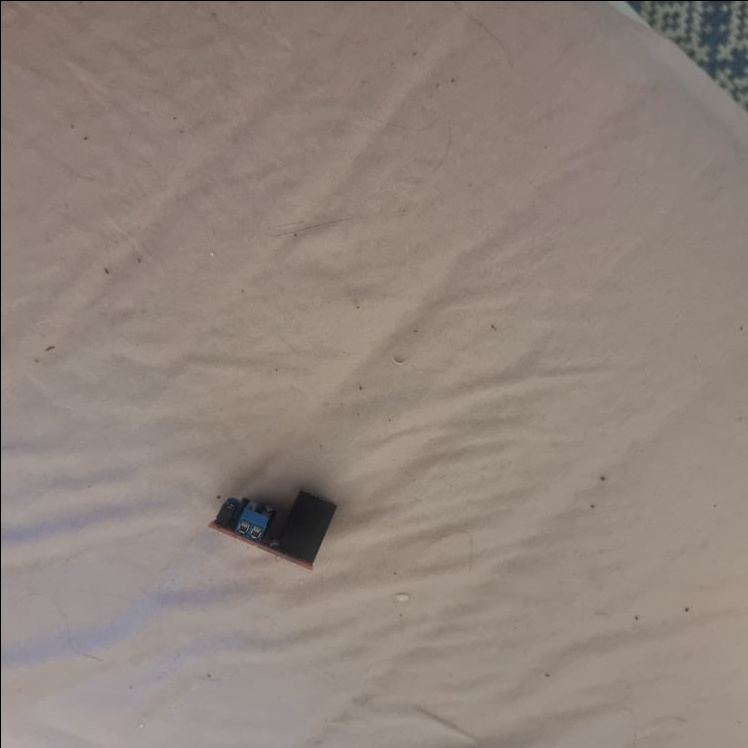MOTOR: (202, 482, 340, 571)
